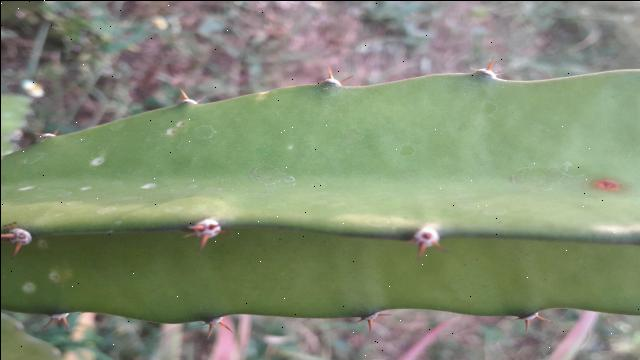stemcanker: (576, 164, 637, 206)
